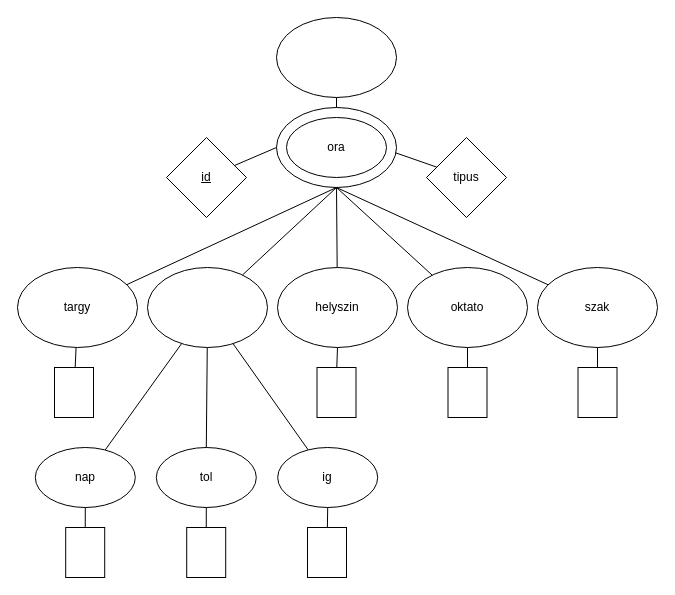
Some shapes in this 675 by 595 pixel diagram are drawn without their labels. The shapes that lost their labels are listed below. From the top down, each one's centre as x and y in pixels, then its label:
[336,57]: SLDHOO_orarend
[207,307]: idopont
